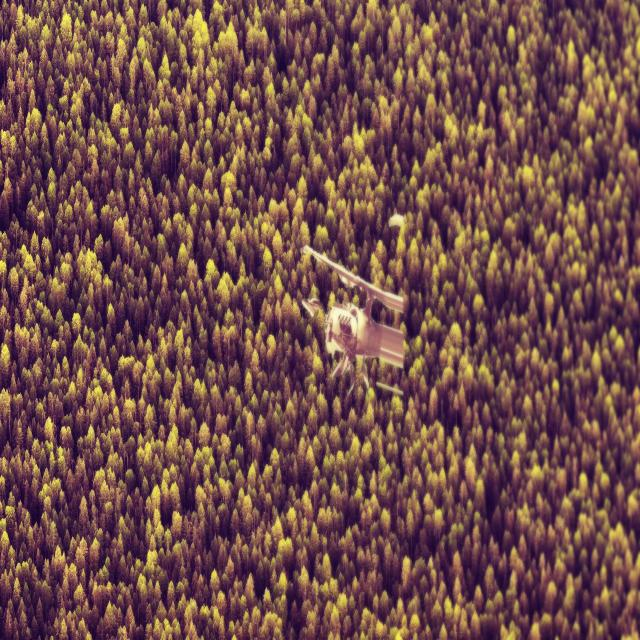airplane: (300, 244, 405, 397)
